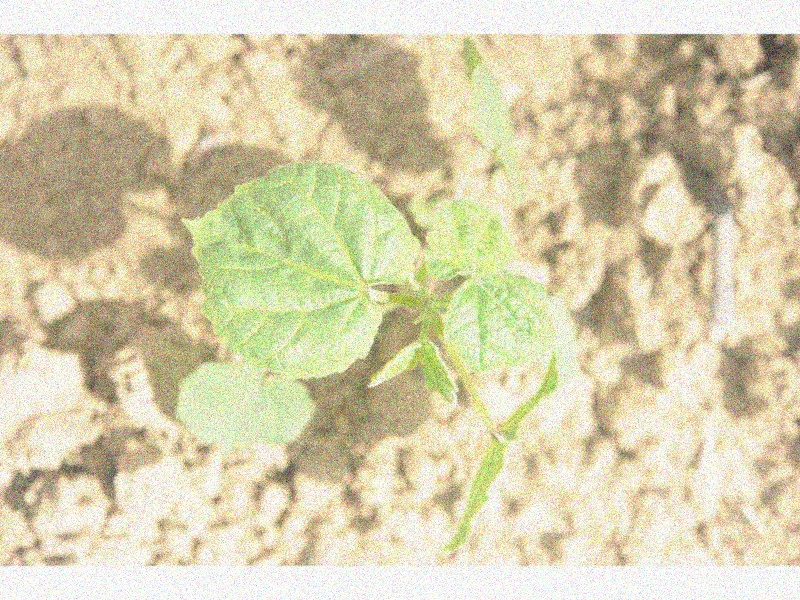velvet: (176, 35, 574, 549)
